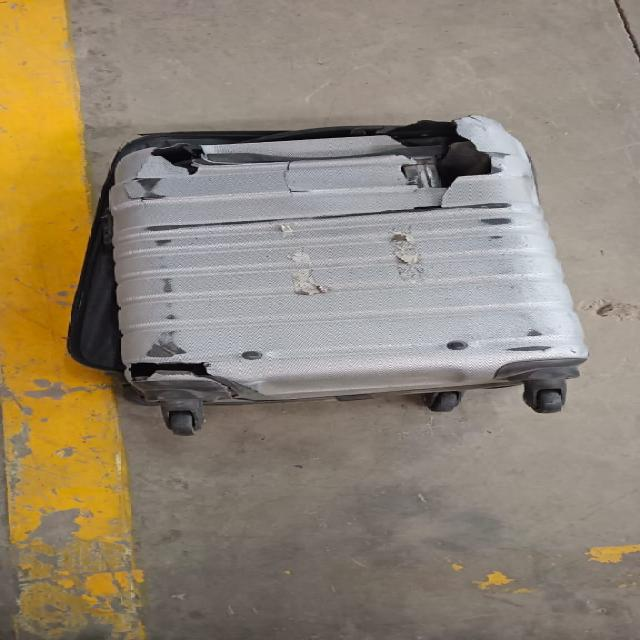Damage-bag: (67, 120, 492, 397), (206, 381, 522, 404), (200, 151, 403, 164), (283, 161, 311, 198), (133, 175, 156, 199)
